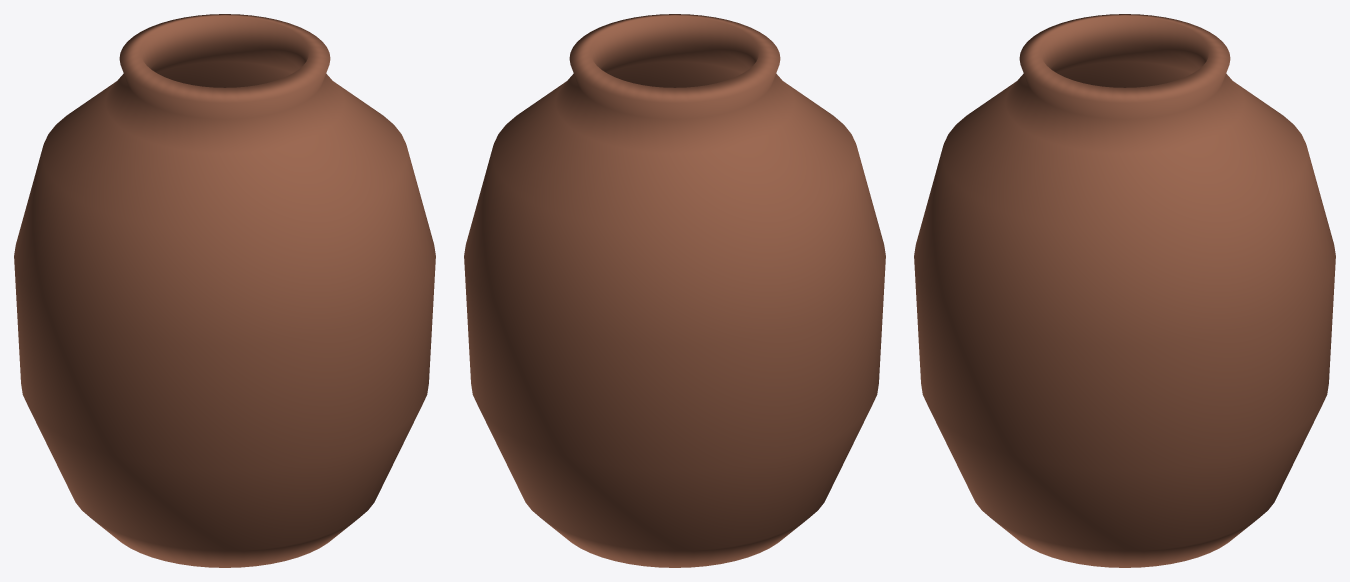
The model's file is vessel.glb.
3 renders of one model, left to right at view 1: azimuth 30°, elevation 25°; view 2: azimuth 150°, elevation 25°; view 3: azimuth 270°, elevation 25°, orthographic.
Visible parts, largest first — view 1: Original illustrative vessel; view 2: Original illustrative vessel; view 3: Original illustrative vessel.
Boxes of the visible parts, x1,y1,x2,y2 form: Original illustrative vessel: [14, 14, 435, 567]; Original illustrative vessel: [464, 14, 885, 567]; Original illustrative vessel: [914, 14, 1335, 567].
Bounding box in the file's own units: 0.3 × 0.365 × 0.3.
